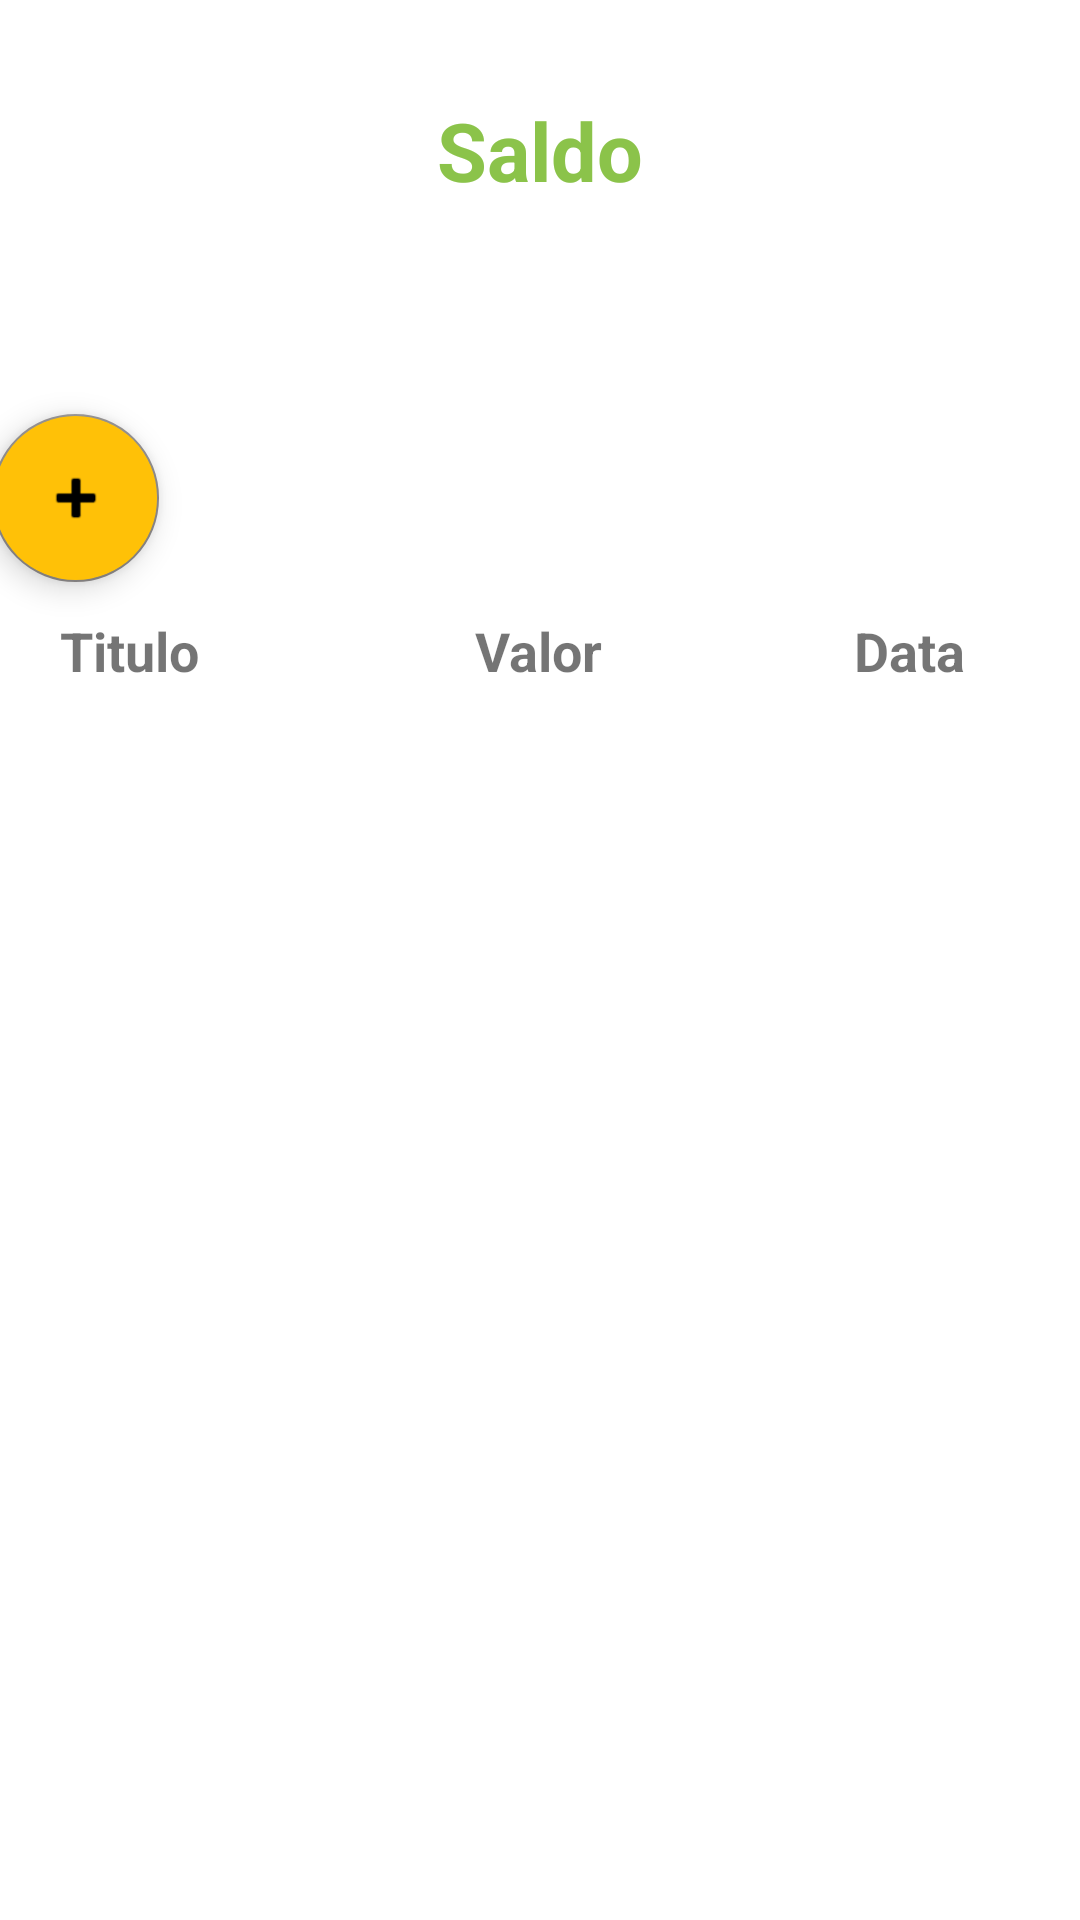

Point at icon controls on the screen. Image size 1080w x 1920h, points as point (x, y).
Adicionar Saldo: point (79, 498)
